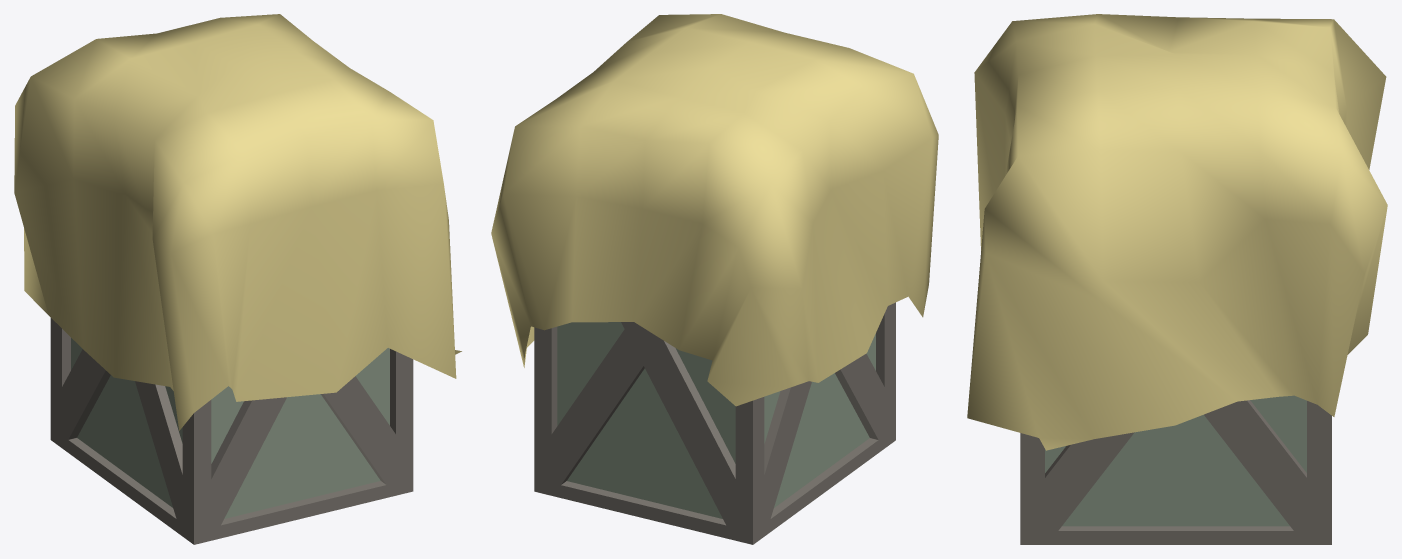
The model's file is cratecoverd.fbx.
The picture shows the model from 3 angles, left to right: view 1: azimuth 30°, elevation 25°; view 2: azimuth 150°, elevation 25°; view 3: azimuth 270°, elevation 25°; orthographic projection. The views are drawn at different scales.
Parts seen in each view (by area): view 1: DekenCratr.001; view 2: DekenCratr.001; view 3: DekenCratr.001.
Boxes of the visible parts, box(x1,y1,x2,y2) form: DekenCratr.001: box(14, 14, 461, 544); DekenCratr.001: box(491, 14, 938, 544); DekenCratr.001: box(967, 14, 1387, 544).
Bounding box in the file's own units: 2.15 × 2.54 × 2.23.
